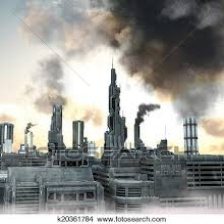smoke: (105, 1, 224, 102), (32, 59, 64, 114), (130, 104, 160, 125)
